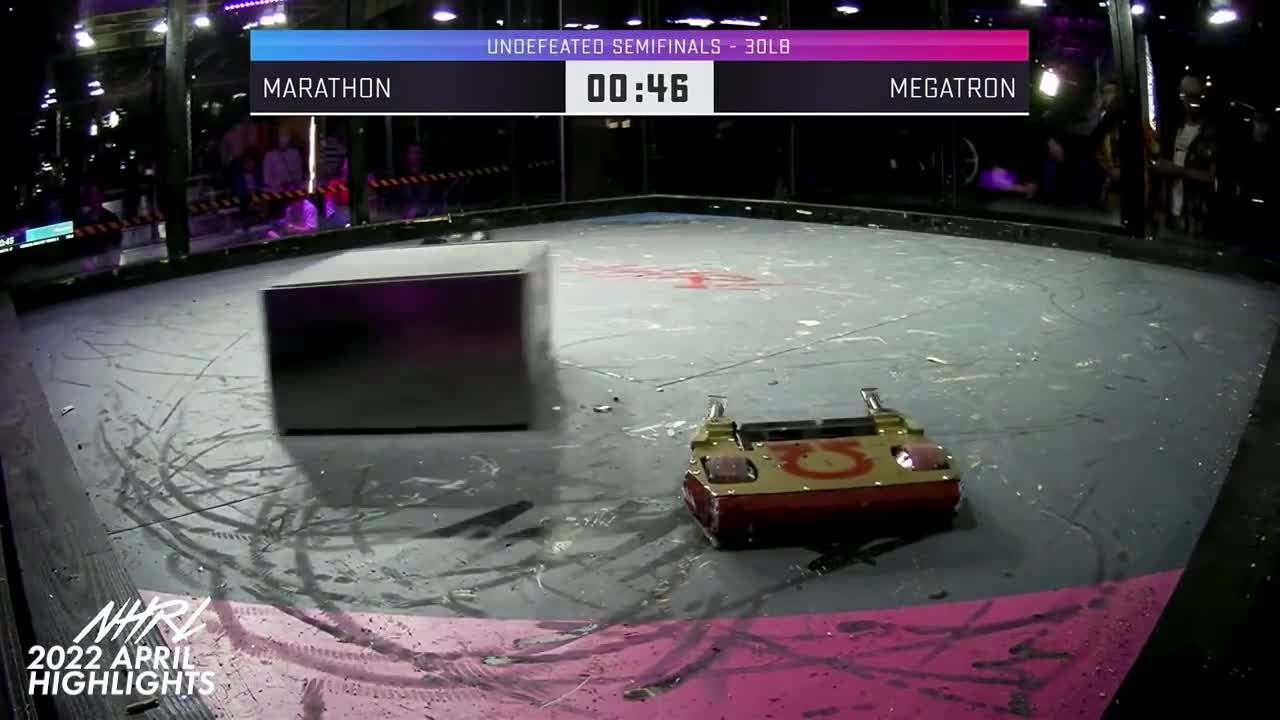combatbot: (682, 407, 965, 551)
housebot: (263, 239, 552, 438)
